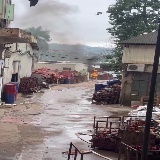fire: (92, 70, 98, 76)
